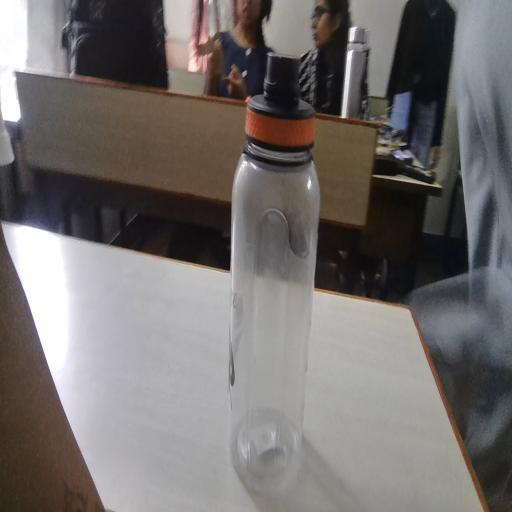Bottle: (241, 70, 322, 484)
